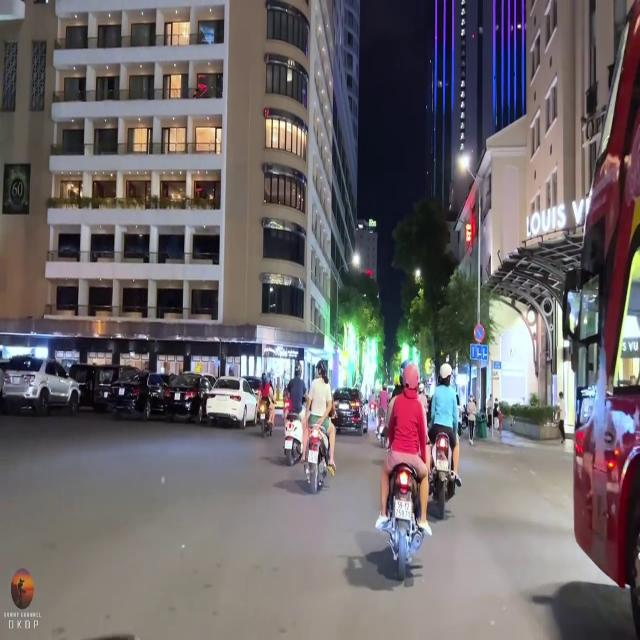bien_trang: (396, 494, 414, 524)
